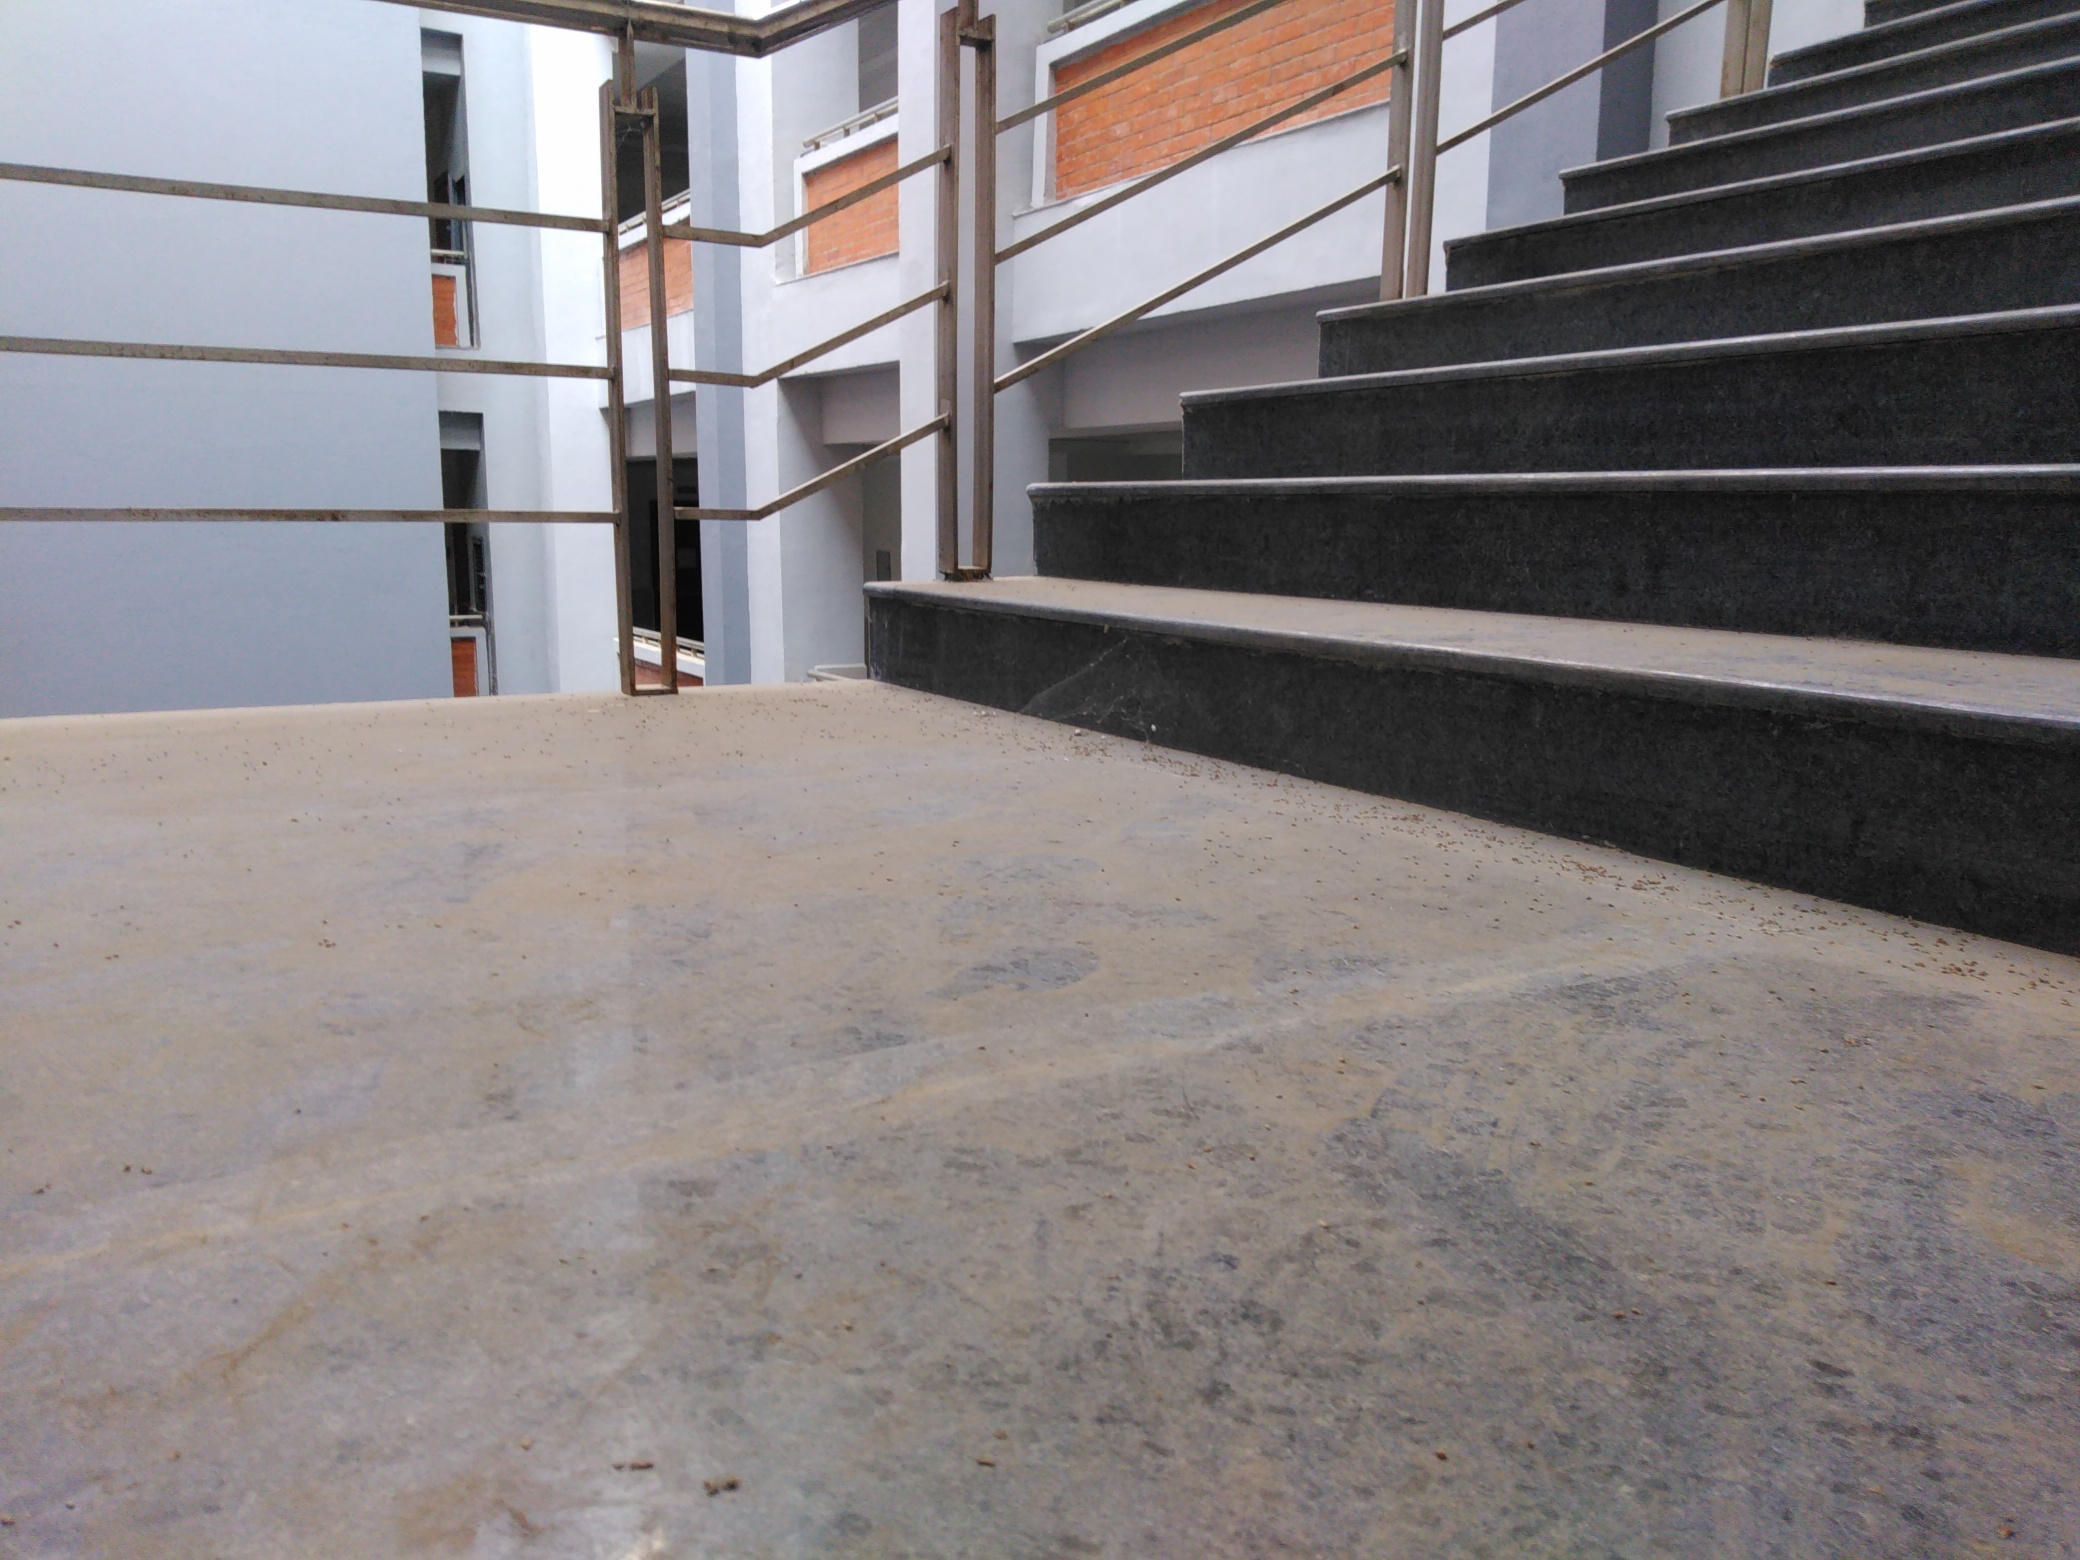stairs_up: (878, 3, 2065, 819)
